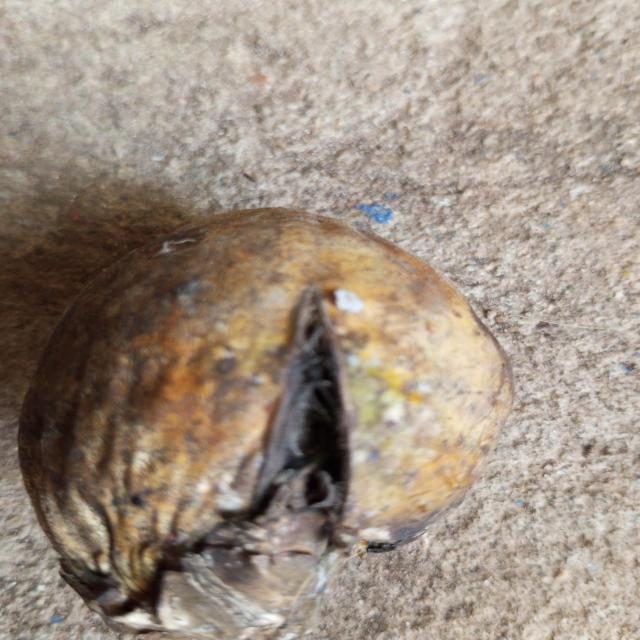damaged: (16, 208, 515, 640)
